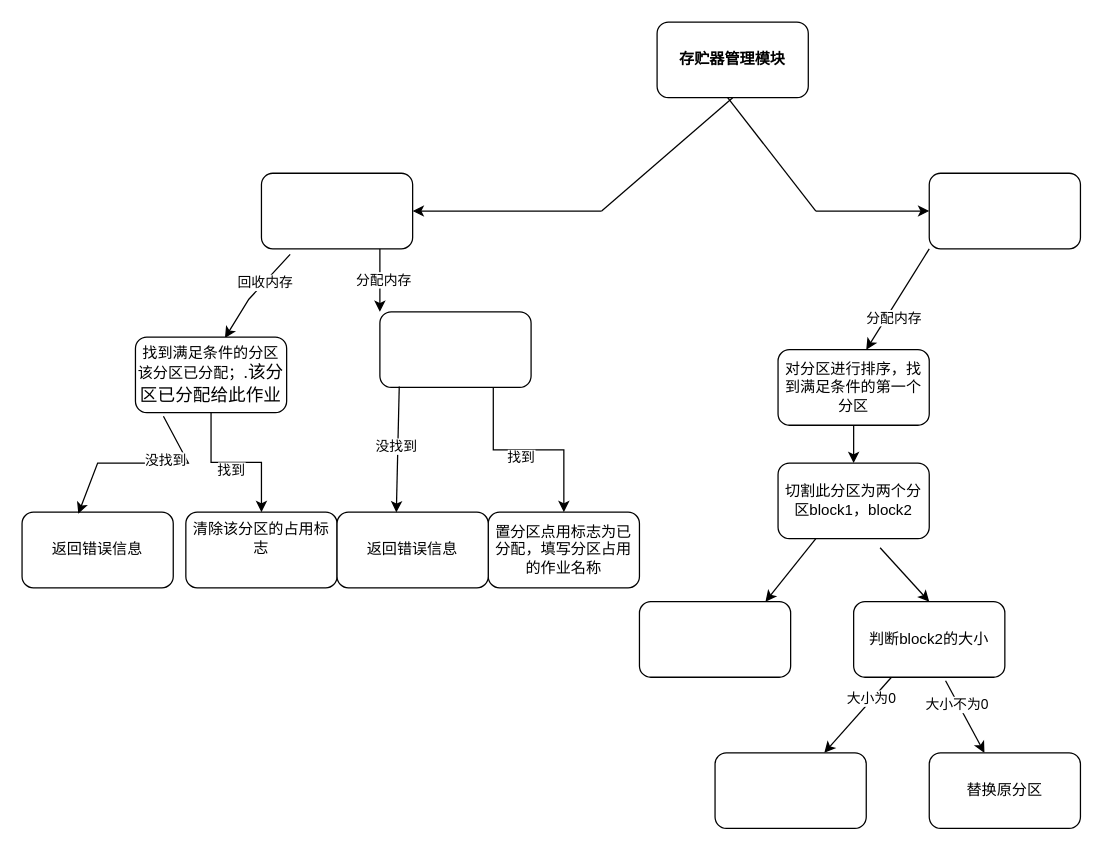
This 1103x851 diagram has some shape labels left out. Here are the shapes that lost their labels. From the top down, the box of each, then its label:
(260, 172, 413, 249): 固定分区
(928, 172, 1080, 249): 可变分区
(379, 311, 531, 387): 在固定分区中找到第一个可提供足够内存且
(638, 600, 791, 677): 将block1分配出去
(714, 752, 866, 828): 删除原分区，分区数量减1
